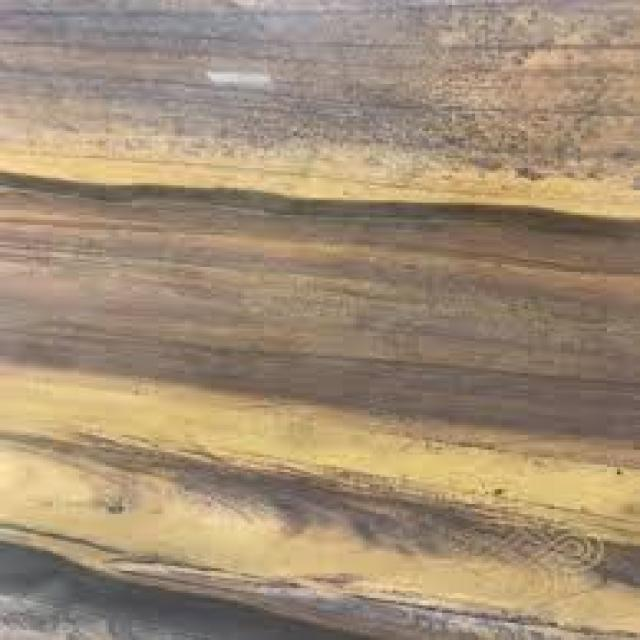Metamorphic: (4, 5, 634, 633)
